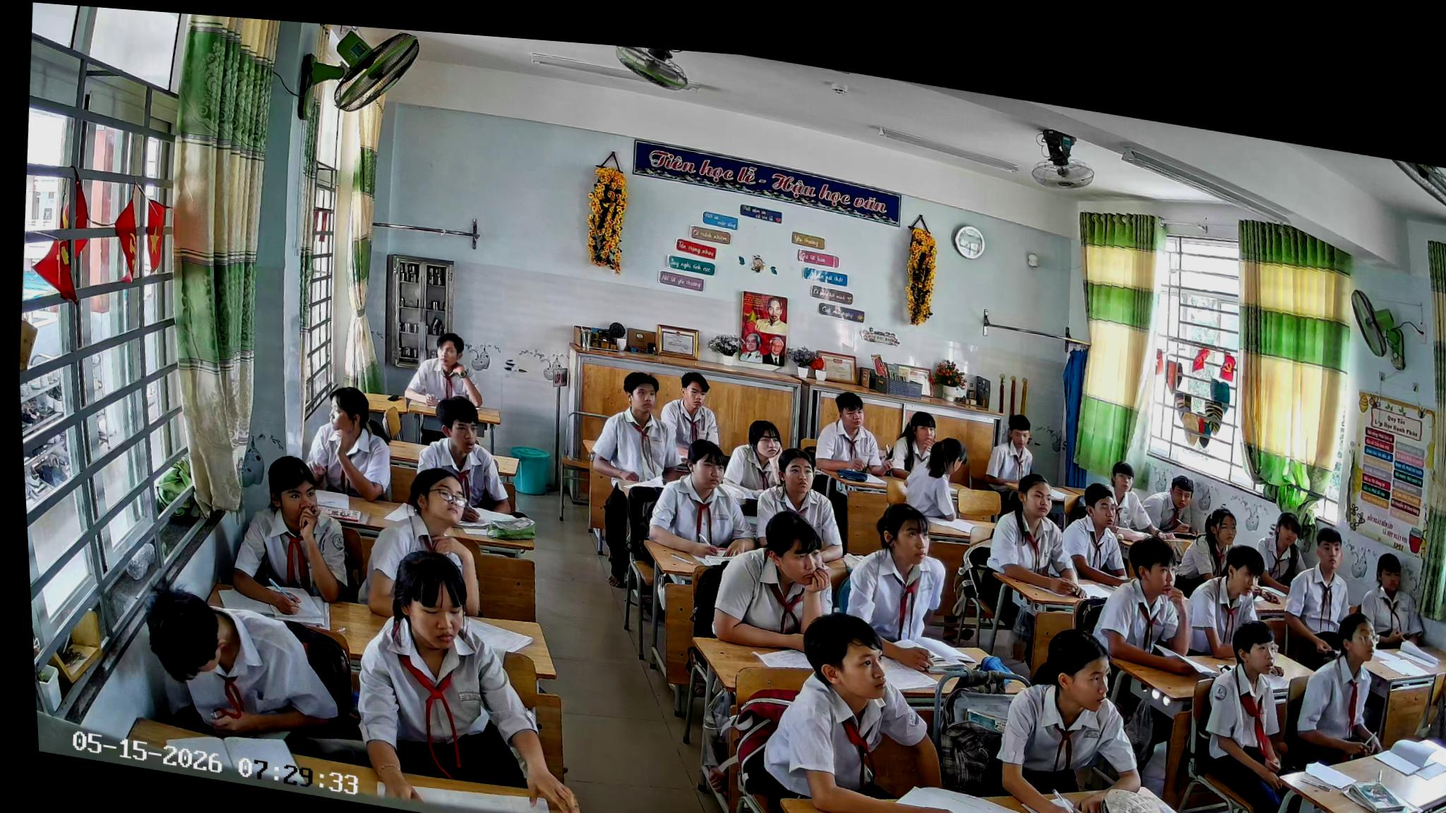person: (341, 536, 602, 813), (749, 600, 990, 813), (133, 583, 369, 770), (981, 614, 1158, 813), (575, 361, 703, 601), (1181, 609, 1311, 813), (349, 454, 494, 633), (222, 446, 362, 625), (703, 498, 845, 663), (835, 493, 959, 677), (1285, 603, 1400, 791), (1085, 526, 1209, 680), (639, 430, 766, 567), (408, 388, 525, 530), (1178, 535, 1295, 673), (981, 466, 1098, 603), (749, 442, 855, 586), (1274, 520, 1362, 678), (294, 379, 402, 507), (396, 324, 491, 453), (1056, 478, 1139, 592), (1352, 549, 1432, 658), (808, 387, 895, 487), (654, 364, 728, 471), (1169, 500, 1244, 605), (716, 413, 788, 522), (979, 409, 1044, 518), (898, 431, 972, 526), (1244, 507, 1312, 608), (1134, 468, 1202, 544), (882, 406, 945, 487), (1103, 460, 1159, 538)
